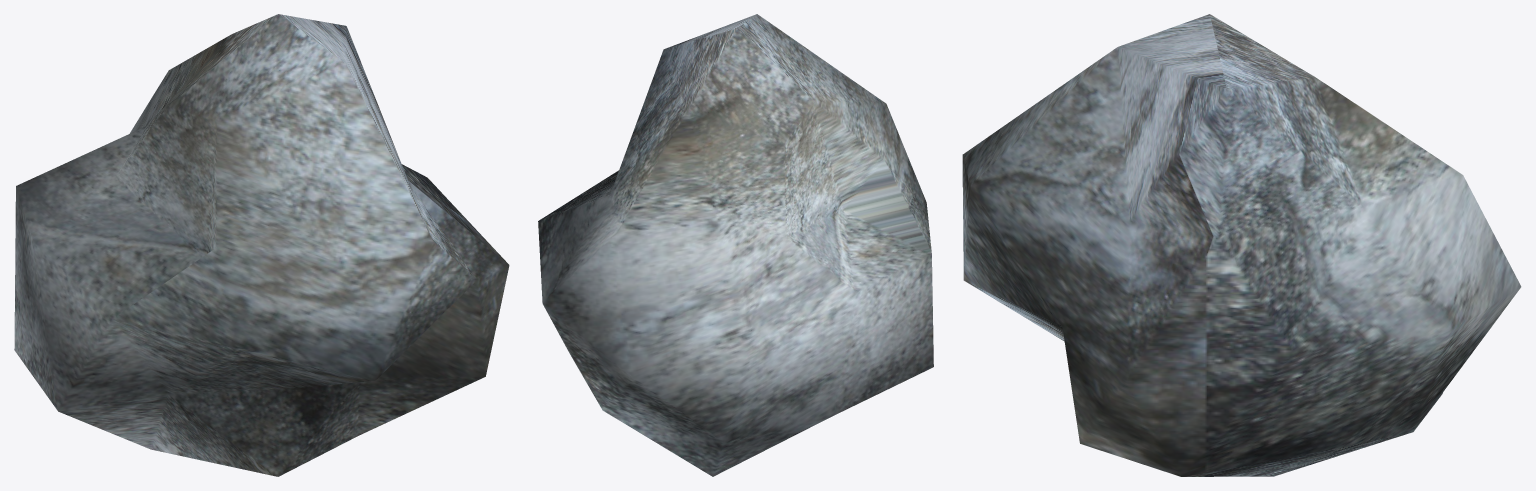
The model's file is rock3.obj.
3 renders of one model, left to right at view 1: azimuth 30°, elevation 25°; view 2: azimuth 150°, elevation 25°; view 3: azimuth 270°, elevation 25°, orthographic. The views are drawn at different scales.
Visible parts, largest first — view 1: Icosphere; view 2: Icosphere; view 3: Icosphere.
Part boxes in pixels (x1,y1,x2,y2): Icosphere: (14,14,509,476); Icosphere: (538,14,933,476); Icosphere: (962,14,1521,476).
Size of the model in its own units: 2.2 by 2.11 by 2.52.
